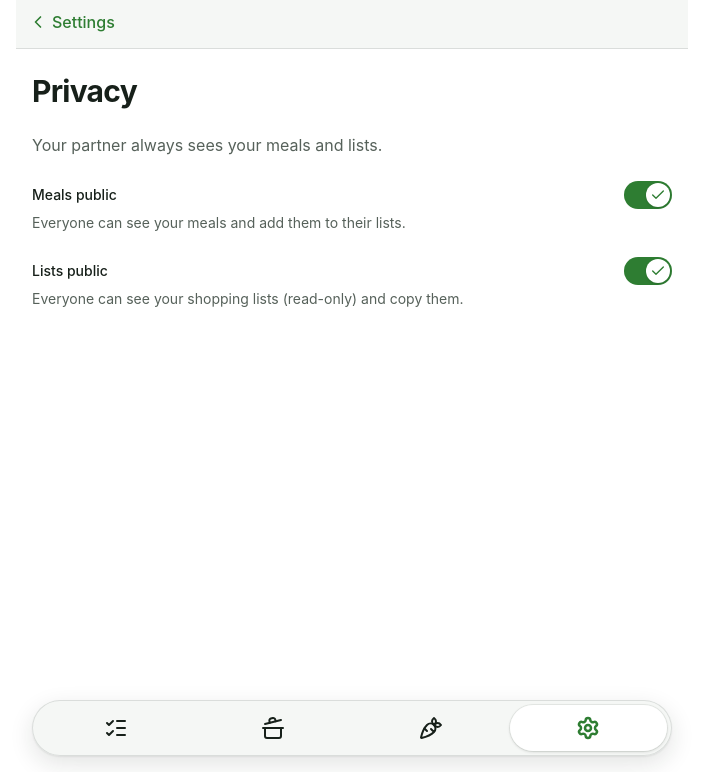
Test: PrivacyScreen › shows a failed privacy change and keeps the old state
Click the switch named "Meals public" in the row of "Meals public" at [648, 195], box [624,181,672,209]
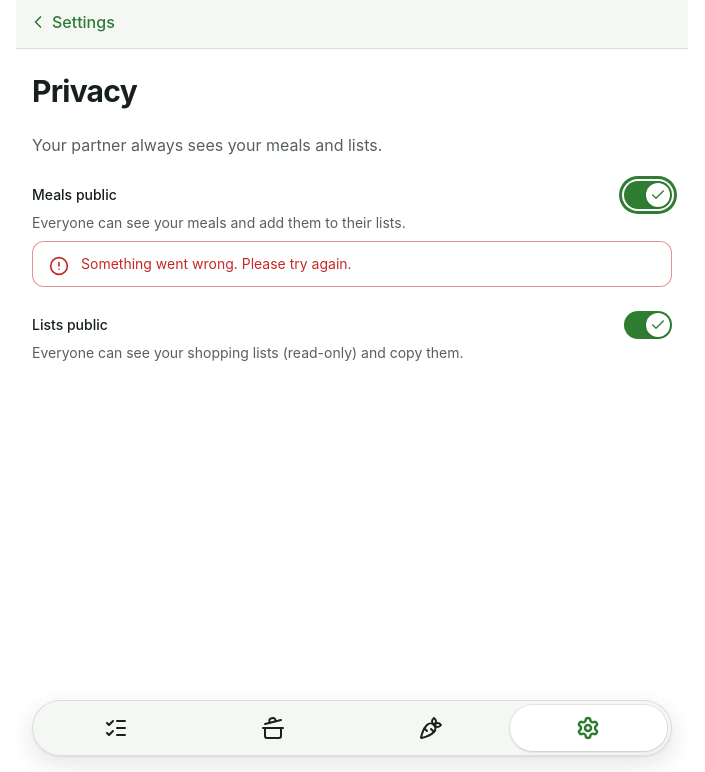
Check: the text "Something went wrong. Please try again." is shown, box [81,255,352,272]
